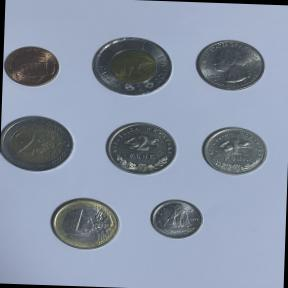coin: (82, 30, 182, 103), (101, 115, 182, 183), (0, 111, 80, 177), (45, 192, 122, 254), (192, 35, 270, 96), (144, 196, 208, 244), (1, 41, 62, 91)
